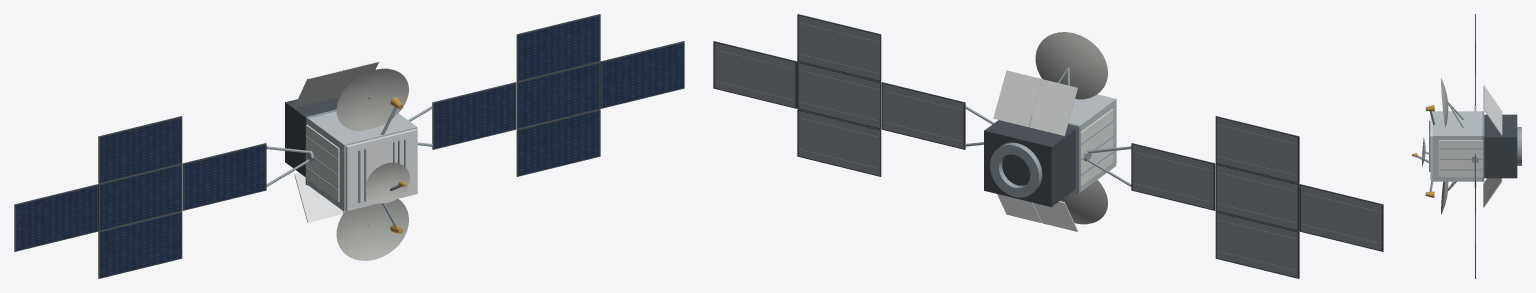
Rendered from ssl-1300-galaxy-crosswing.glb.
3 renders of one model, left to right at view 1: azimuth 30°, elevation 25°; view 2: azimuth 150°, elevation 25°; view 3: azimuth 270°, elevation 25°, orthographic. The views are drawn at different scales.
Visible parts, largest first — view 1: Solar cell panel (×10), Communications reflector (×2), Solar panel frame (×10), Earth-facing deck, Deployed radiator leaf (×3), Payload module, Radiator face, Service module, Deck-mounted reflector; view 2: Rear array substrate (×10), Solar panel frame (×10), Deployed radiator leaf (×4), Service module, Communications reflector (×2), Radiator face, Launch adapter ring, Payload module, Module interface; view 3: Service module, Payload module, Radiator face, Deployed radiator leaf (×4), Communications reflector (×2), Launch adapter ring, Earth-facing deck, Module interface, Radiator seam (×2), Deck-mounted reflector.
Boxes of the visible parts, box(x1,y1,x2,y2) form: Solar cell panel (×10): box(16, 16, 683, 277); Communications reflector (×2): box(336, 68, 408, 260); Solar panel frame (×10): box(14, 14, 684, 278); Earth-facing deck: box(345, 129, 417, 210); Deployed radiator leaf (×3): box(294, 61, 378, 222); Payload module: box(307, 111, 417, 211); Radiator face: box(306, 125, 339, 201); Service module: box(285, 97, 339, 176); Deck-mounted reflector: box(365, 162, 409, 203); Rear array substrate (×10): box(714, 16, 1381, 277); Solar panel frame (×10): box(713, 14, 1383, 278); Deployed radiator leaf (×4): box(993, 70, 1077, 231); Service module: box(984, 119, 1075, 206); Communications reflector (×2): box(1035, 32, 1107, 224); Radiator face: box(1080, 109, 1113, 186); Launch adapter ring: box(990, 142, 1042, 197); Payload module: box(1032, 83, 1116, 191); Module interface: box(1031, 115, 1080, 193); Service module: box(1484, 114, 1517, 178); Payload module: box(1432, 111, 1482, 181); Radiator face: box(1438, 140, 1482, 177); Deployed radiator leaf (×4): box(1483, 85, 1502, 207); Communications reflector (×2): box(1441, 78, 1448, 214); Launch adapter ring: box(1517, 127, 1521, 165); Earth-facing deck: box(1430, 115, 1432, 180); Module interface: box(1482, 111, 1484, 181); Radiator seam (×2): box(1439, 148, 1482, 170); Deck-mounted reflector: box(1422, 137, 1425, 166).
Bounding box in the file's own units: 24.67 × 6.69 × 5.11.
Materials: 8 (1 with a texture image).
